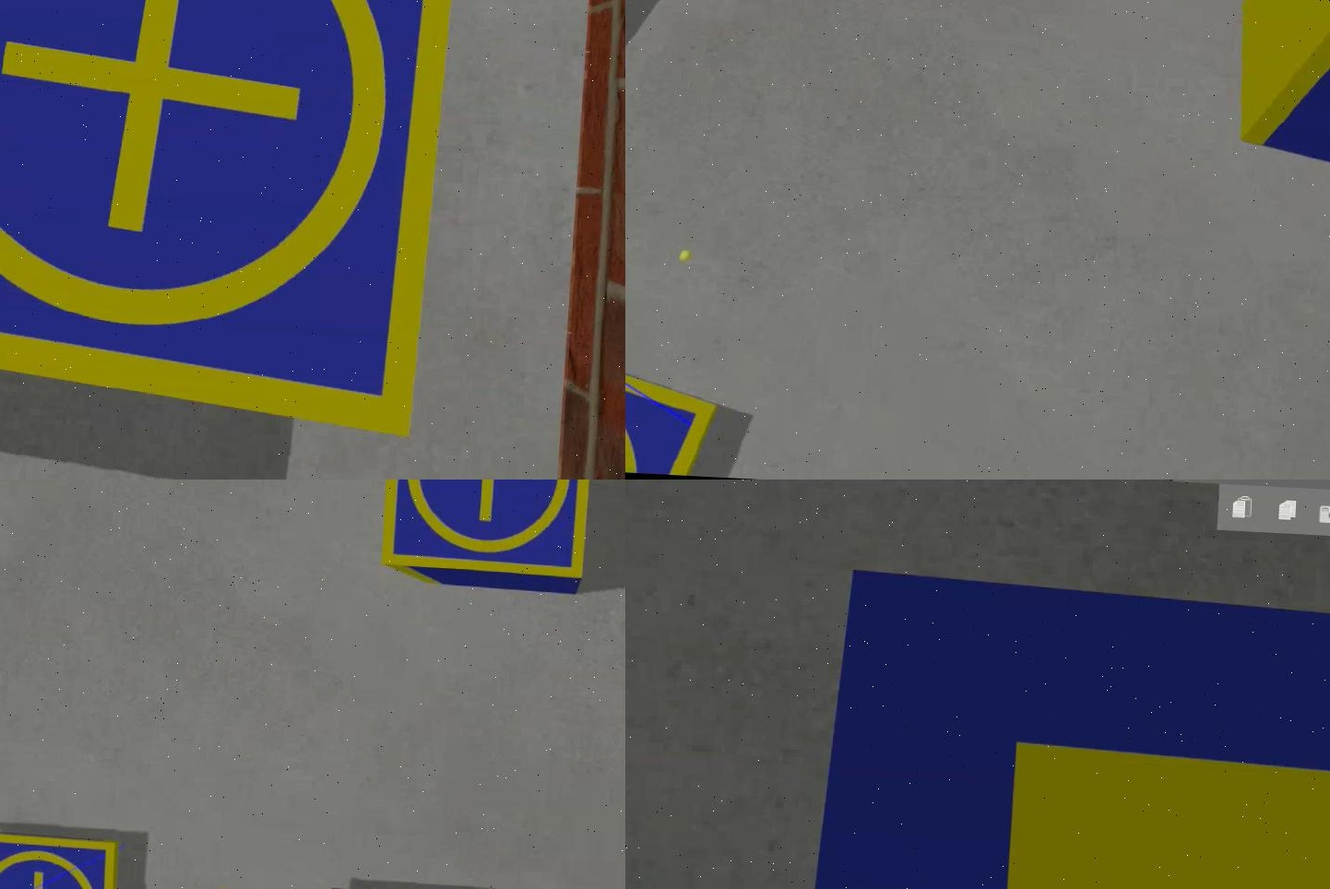large_base: (756, 564, 1328, 889)
small_base: (0, 1, 469, 444), (374, 480, 596, 582), (624, 321, 721, 477), (0, 831, 119, 889)
